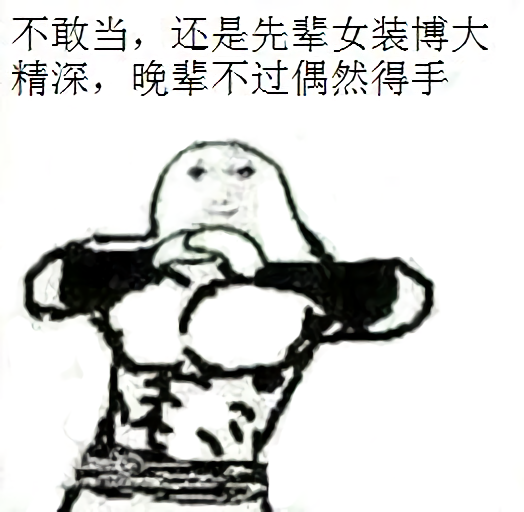dragon: (185, 158, 261, 221)
